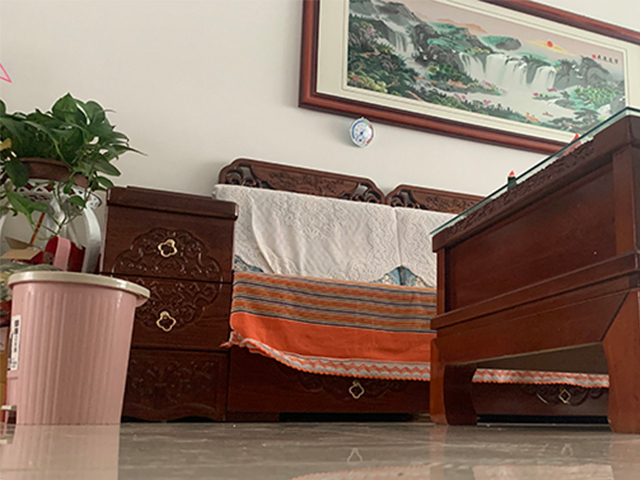sofa: (95, 157, 610, 424)
table: (427, 106, 640, 435)
trashcan: (1, 270, 151, 429)
